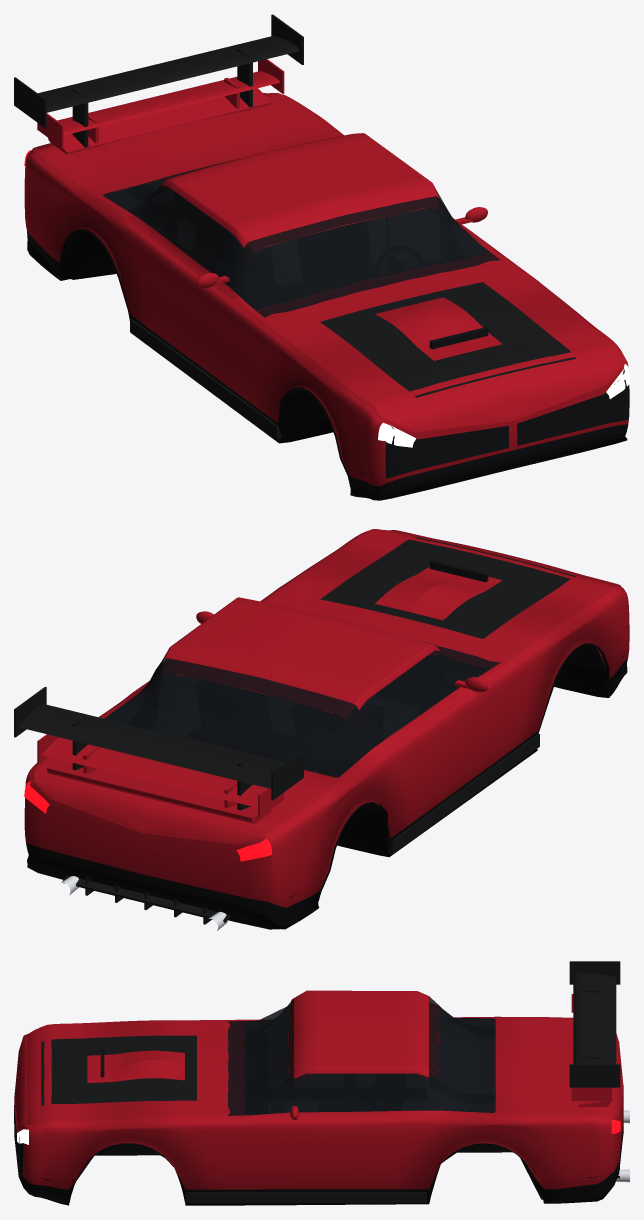
File: brawler.glb
The picture shows the model from 3 angles, top to bottom: view 1: azimuth 30°, elevation 25°; view 2: azimuth 150°, elevation 25°; view 3: azimuth 270°, elevation 25°; orthographic projection. The views are drawn at different scales.
Parts seen in each view (by area): view 1: body (×2), hood_3, spoiler_3, grille, spoiler_2, hood_1, spoiler_1, bumper_1, headlights, mirrors; view 2: body (×2), hood_3, spoiler_3, spoiler_2, bumper_1, hood_1, spoiler_1, taillights, hood_1_intake; view 3: body (×2), hood_3, spoiler_3, hood_1, bumper_1, spoiler_2.
Part boxes in pixels (x1,y1,x2,y2): body (×2): (24, 93, 629, 500); hood_3: (320, 282, 575, 397); spoiler_3: (14, 14, 303, 147); grille: (385, 369, 629, 478); spoiler_2: (37, 59, 284, 147); hood_1: (375, 297, 502, 360); spoiler_1: (48, 88, 271, 154); bumper_1: (130, 319, 281, 439); headlights: (378, 364, 629, 447); mirrors: (196, 207, 487, 288); body (×2): (24, 529, 629, 929); hood_3: (320, 537, 575, 638); spoiler_3: (14, 687, 303, 810); spoiler_2: (37, 734, 284, 817); bumper_1: (62, 733, 539, 924); hood_1: (375, 566, 501, 620); spoiler_1: (46, 761, 271, 824); taillights: (24, 781, 272, 861); hood_1_intake: (429, 560, 488, 582); body (×2): (14, 990, 623, 1205); hood_3: (41, 1035, 196, 1105); spoiler_3: (569, 961, 620, 1087); hood_1: (87, 1050, 184, 1082); bumper_1: (185, 1167, 619, 1202); spoiler_2: (571, 994, 612, 1100).
Size of the model in its own units: 2.18 by 1.24 by 4.85.
